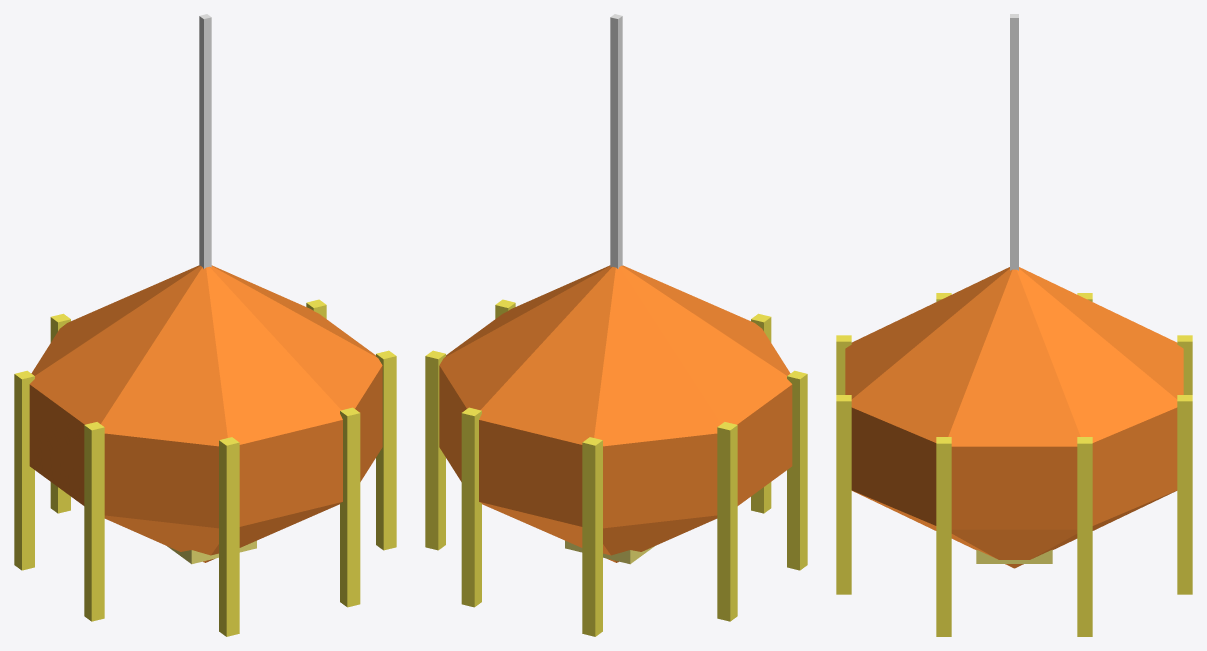
Rendered from SkyLantern.fbx.
3 renders of one model, left to right at view 1: azimuth 30°, elevation 25°; view 2: azimuth 150°, elevation 25°; view 3: azimuth 270°, elevation 25°, orthographic.
Visible parts, largest first — view 1: SkyLantern; view 2: SkyLantern; view 3: SkyLantern.
Part boxes in pixels (x1=…): SkyLantern: x1=14, y1=14, x2=396, y2=636; SkyLantern: x1=425, y1=14, x2=807, y2=636; SkyLantern: x1=836, y1=14, x2=1192, y2=636.
Size of the model in its own units: 2.34 by 4 by 2.34.
1 material, 1 textured.
